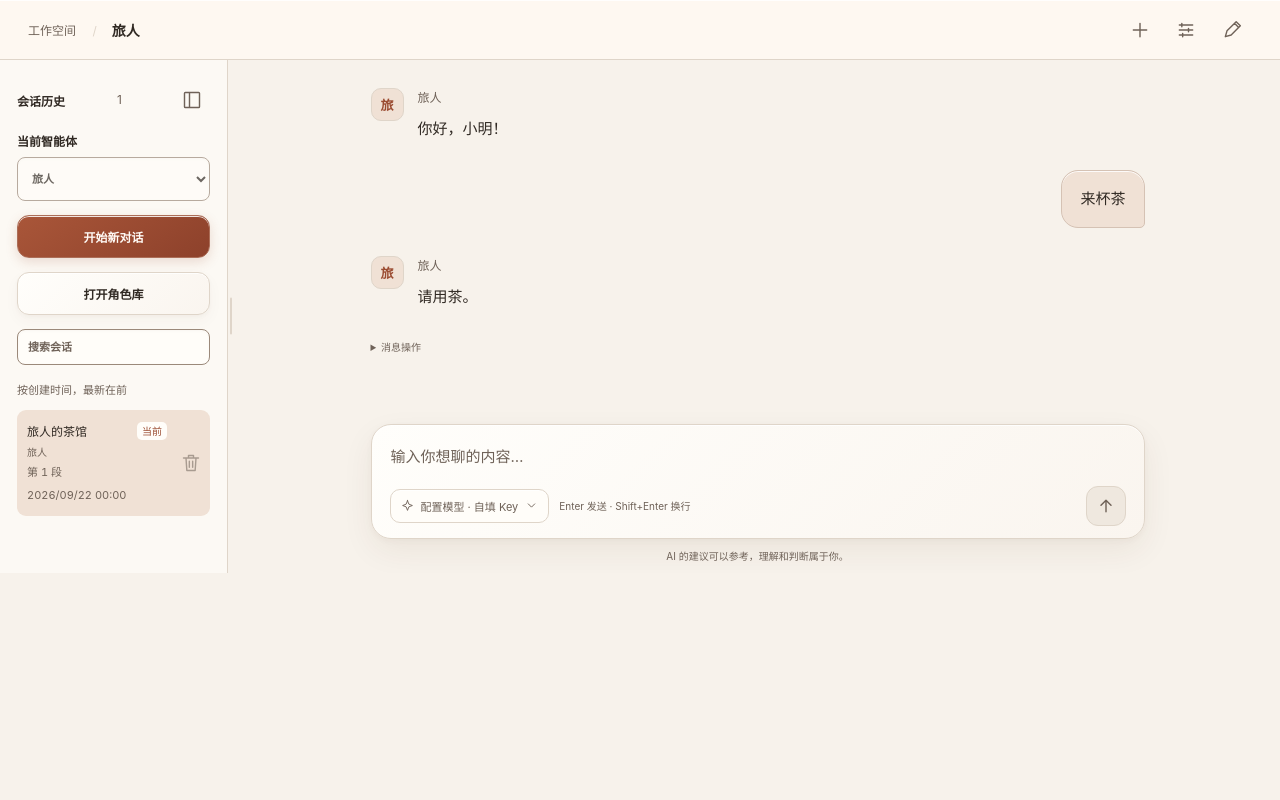
Test: does not enable drawing or save a read-only learning history
The width and height of the screenshot is (1280, 800).
Expected: the text "请用茶。" is shown, [418,286,478,306]
Click the button named "教学画布": (1232, 30) [1212,10,1252,50]
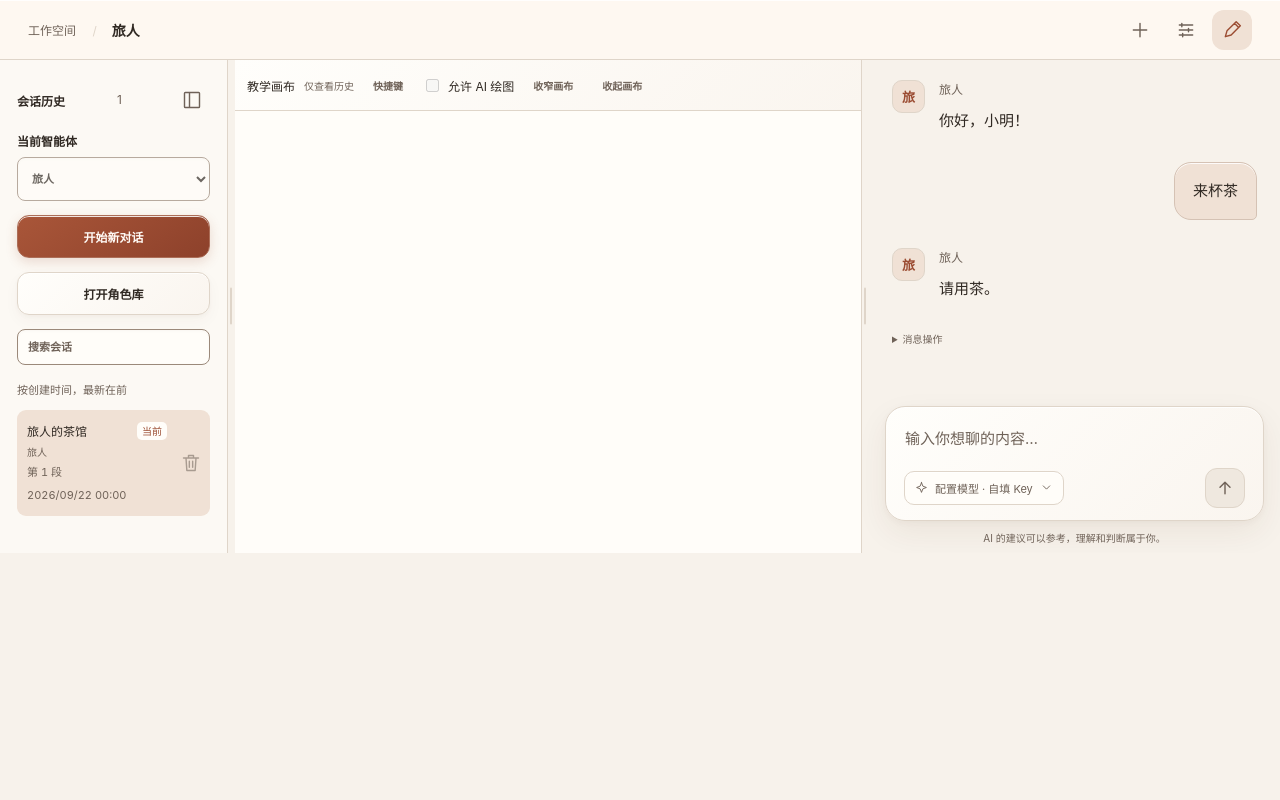
Now the checkbox labelled "允许 AI 绘图" is not checked, box [426,78,439,92]
Now the checkbox labelled "允许 AI 绘图" is disabled, box [426,78,439,92]
